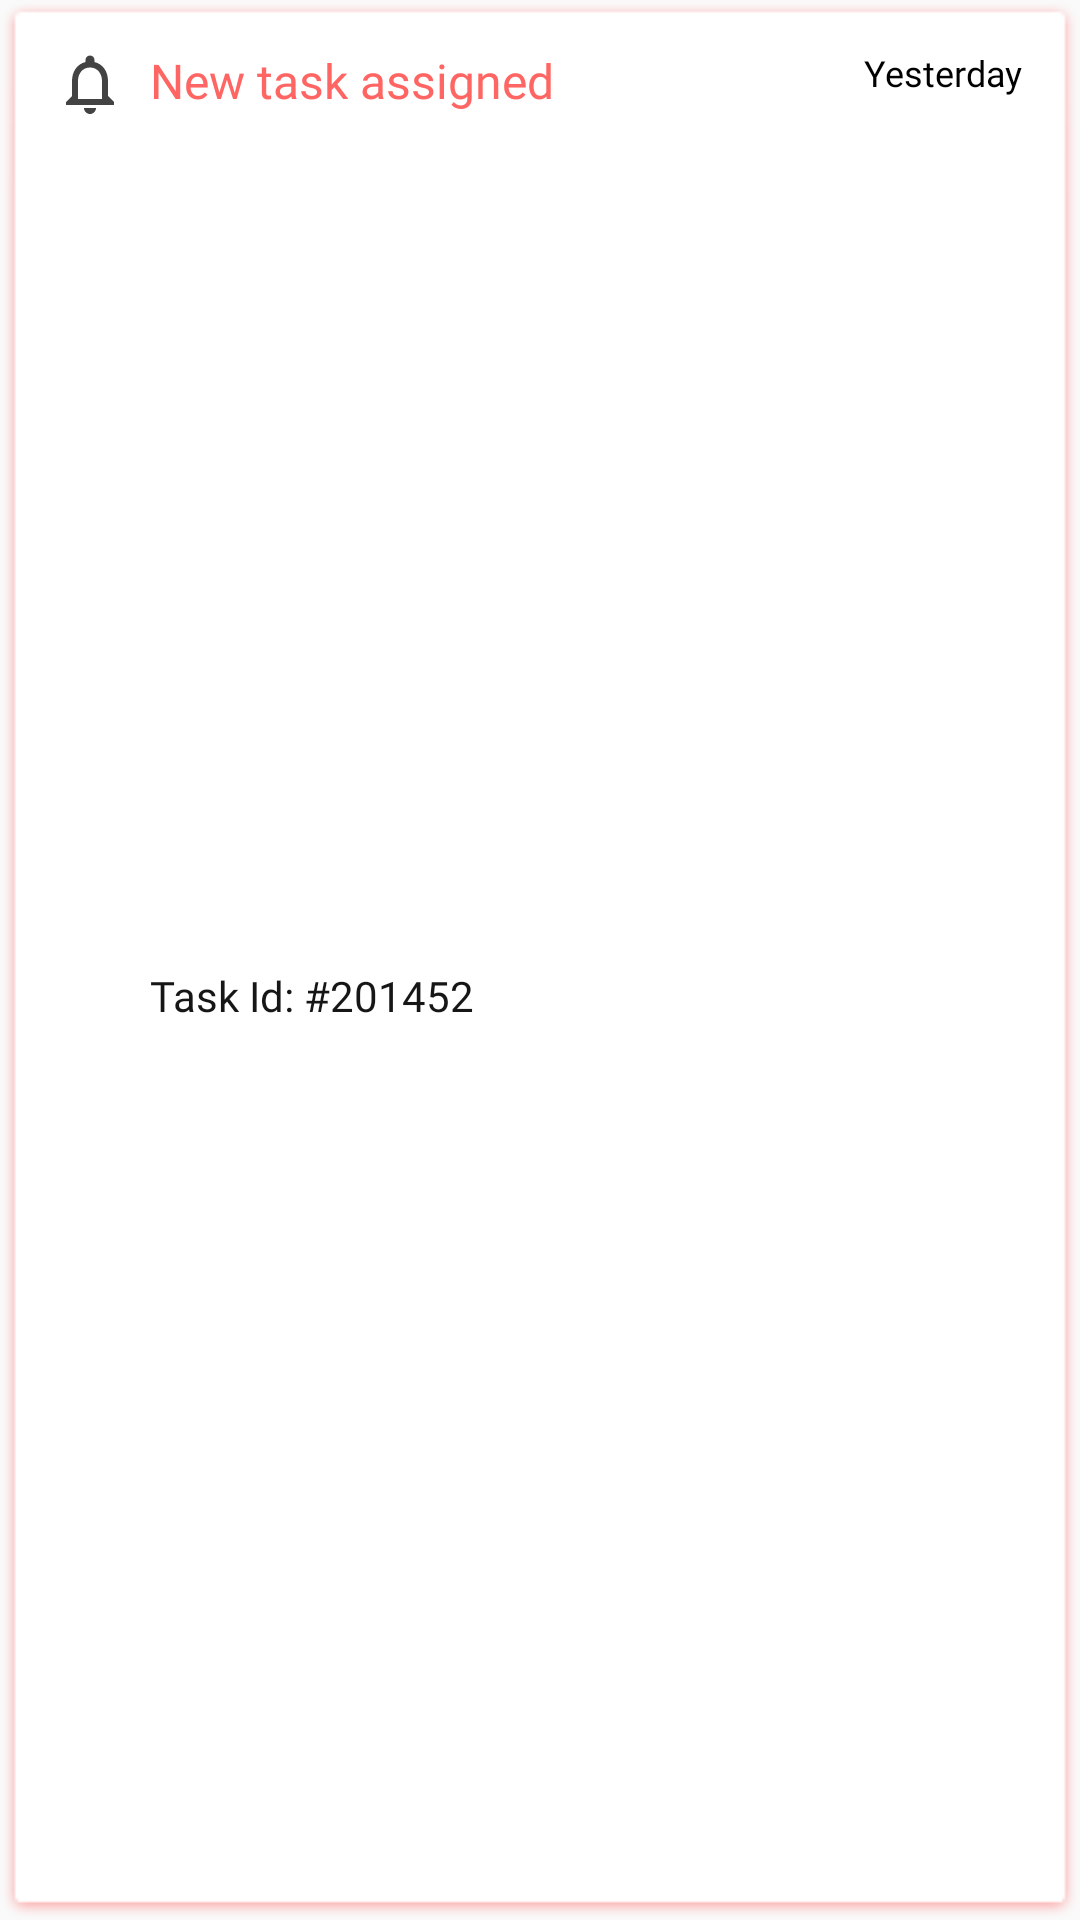

Locate icon controls on the screen. Image size 1080px x 1920px, boxes as bbox=[x1, y1, x2, y2].
notifications none for notifciation: bbox=[66, 55, 114, 114]
